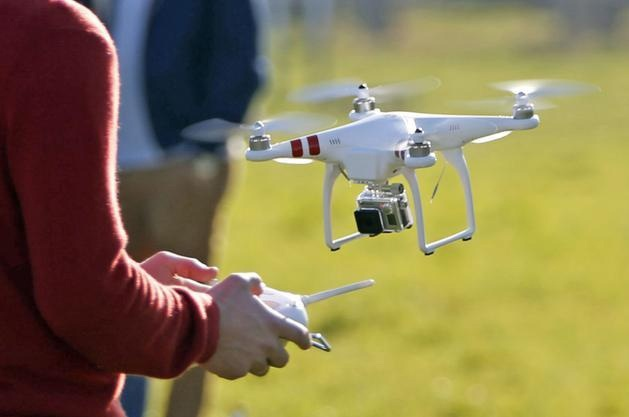DJI: (237, 81, 545, 259)
